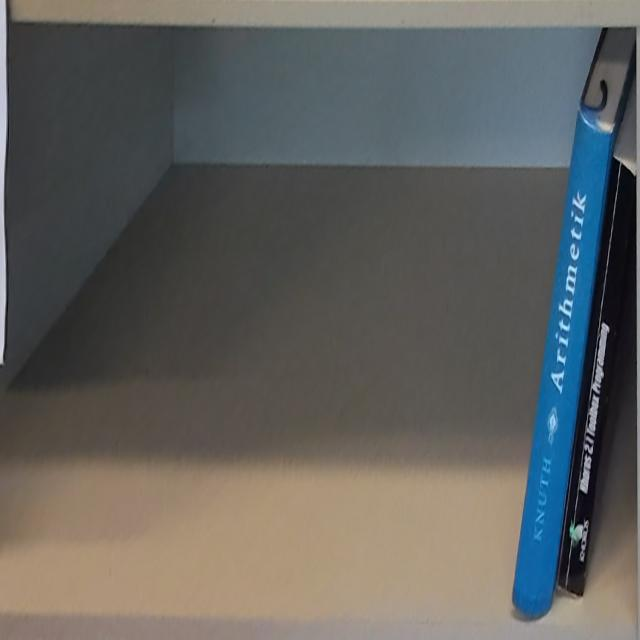Book Spine: (512, 108, 612, 615), (557, 157, 634, 598)
